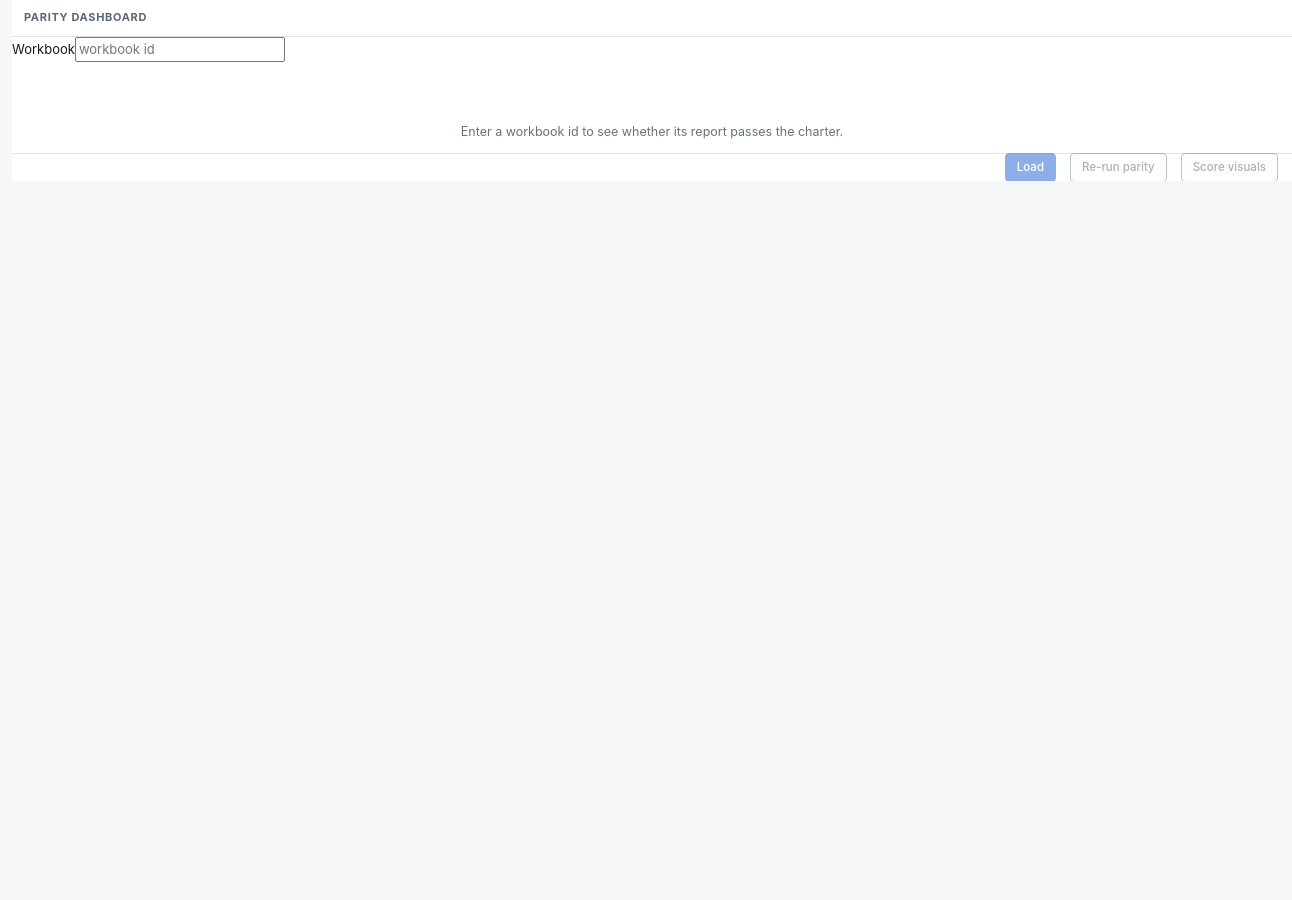
visual parity (§10.5, advisory) › lets the parity engineer score visuals and reports how many were scored
This screenshot has width=1292, height=900.
Type "01ARZ3NDEKTSV4RRFFQ69G5FAV" into the field labelled "Workbook" at [180, 49], box [75, 37, 285, 62]
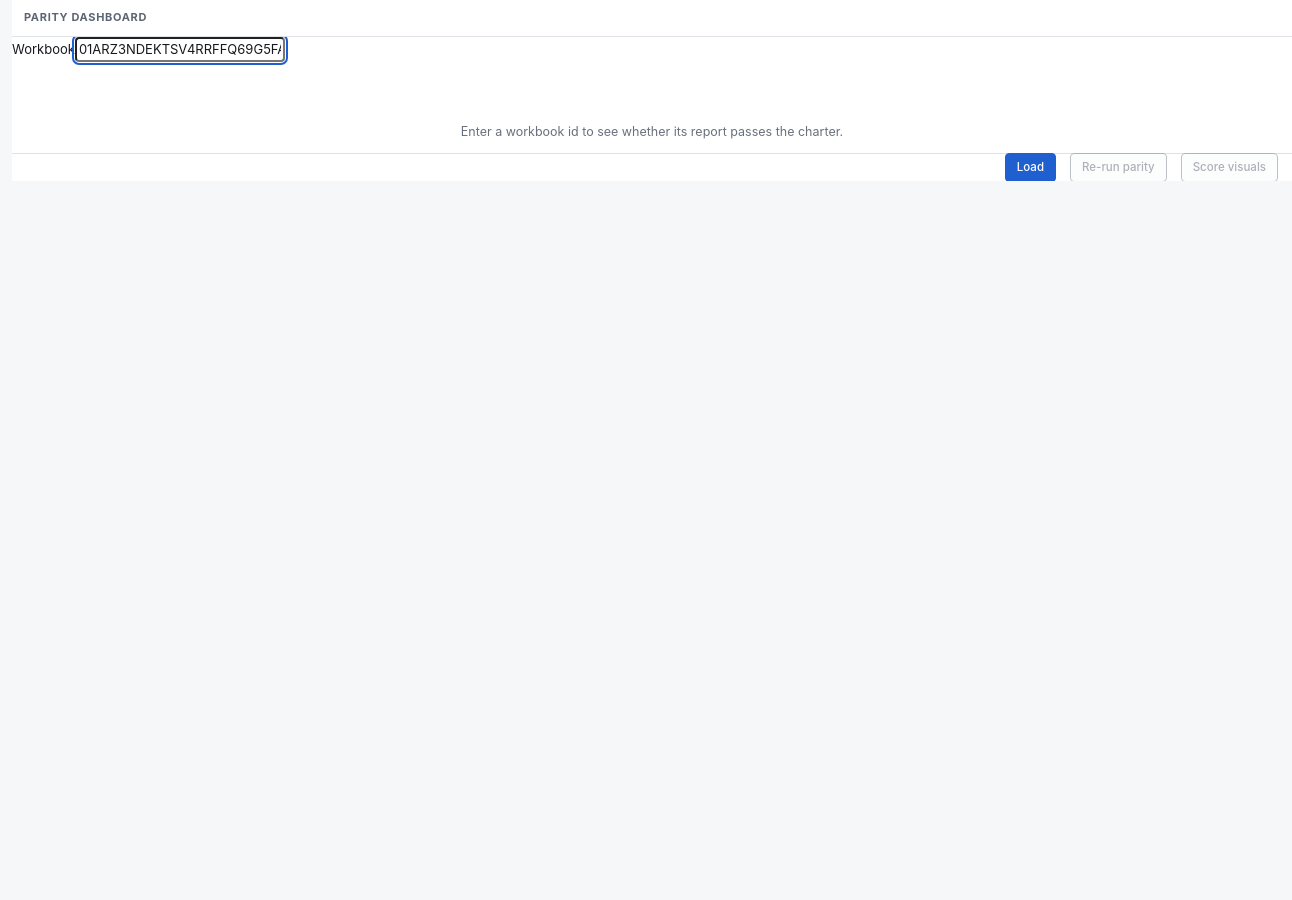
Click the button "Load" at [1030, 167], box [1005, 153, 1056, 182]
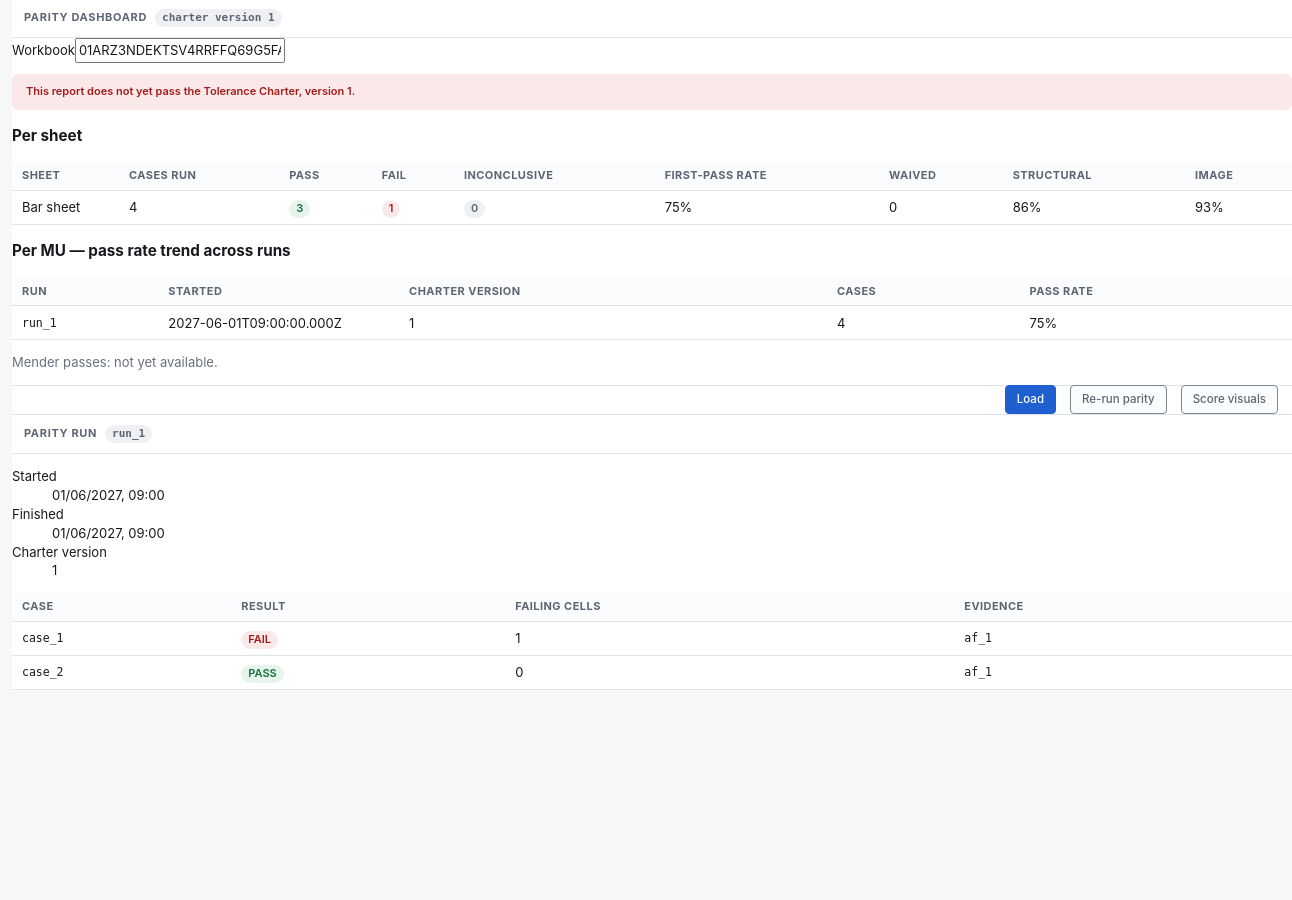
Click the button "Score visuals" at [1229, 400], box [1181, 386, 1278, 414]
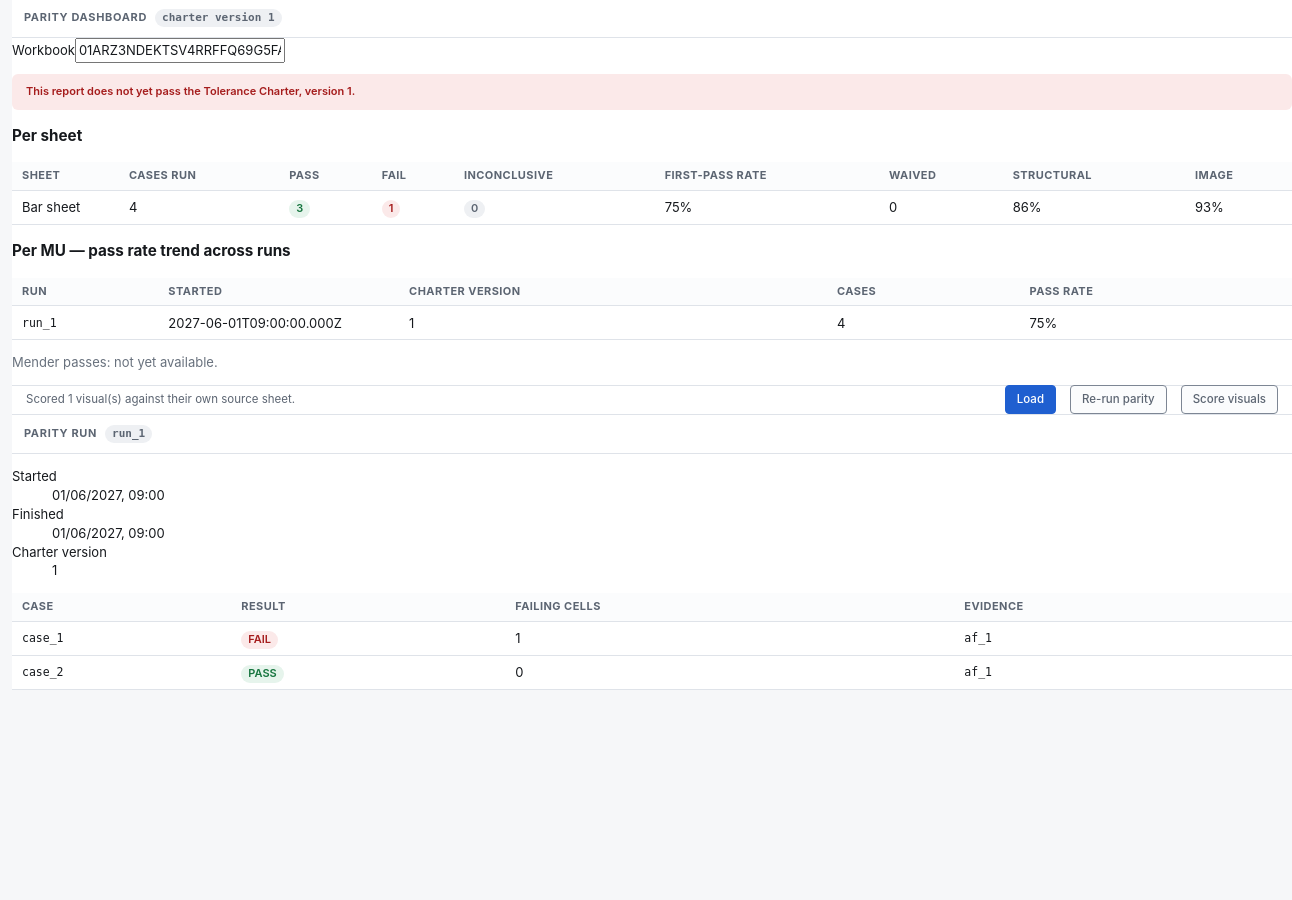
Check: the text "Scored 1 visual(s) against their own source sheet." is shown, box [26, 392, 295, 408]
